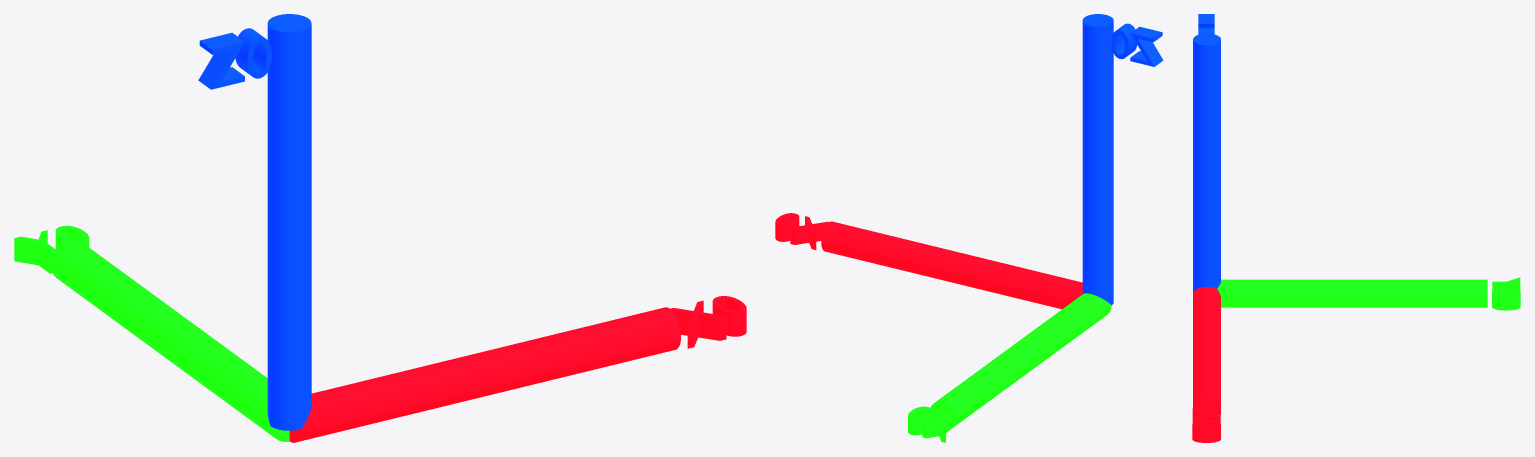
The model's file is axis_frame_0.dae.
3 renders of one model, left to right at view 1: azimuth 30°, elevation 25°; view 2: azimuth 150°, elevation 25°; view 3: azimuth 270°, elevation 25°, orthographic. The views are drawn at different scales.
Parts seen in each view (by area): view 1: FRAME_0; view 2: FRAME_0; view 3: FRAME_0.
Boxes of the visible parts, x1,y1,x2,y2 form: FRAME_0: (14,14,746,442); FRAME_0: (775,14,1163,442); FRAME_0: (1192,14,1520,442).
Size of the model in its own units: 1.06 by 0.8777 by 0.7875.
